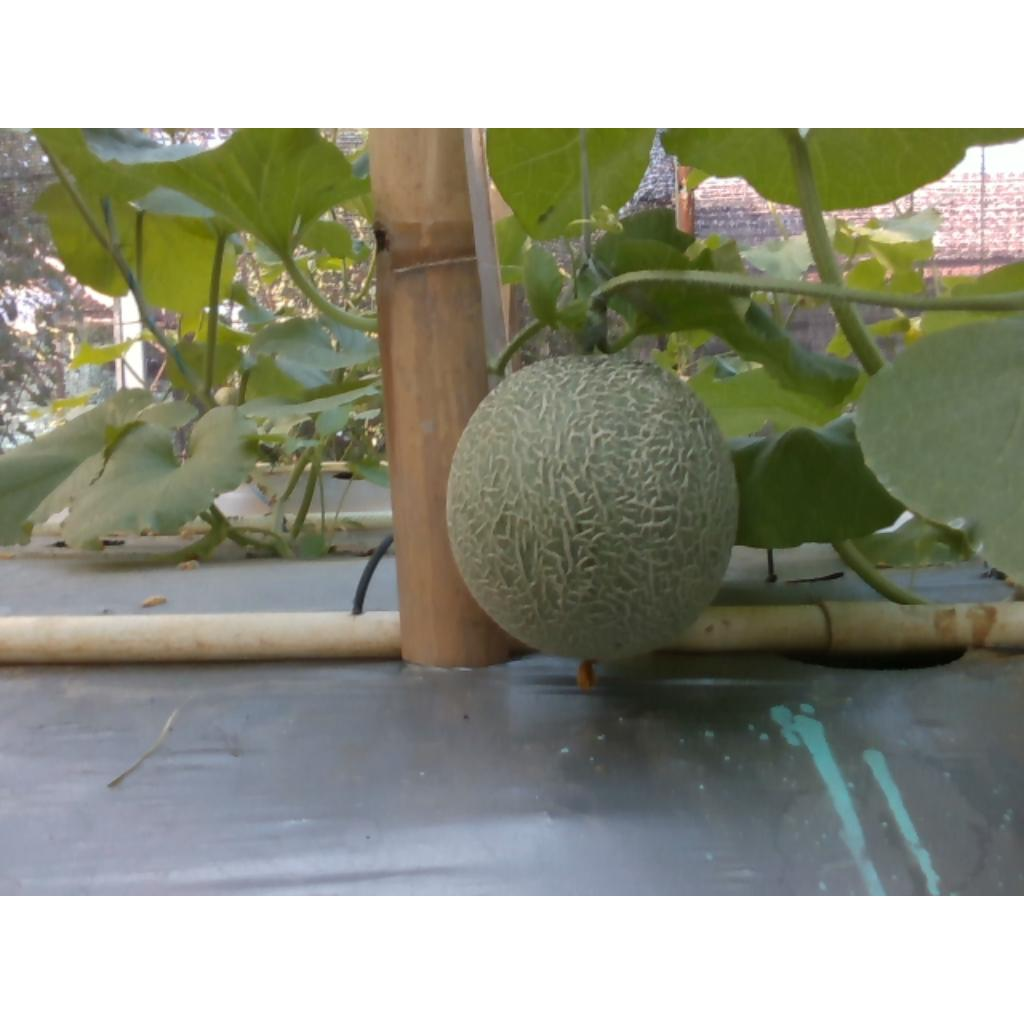melon: (448, 355, 739, 658)
